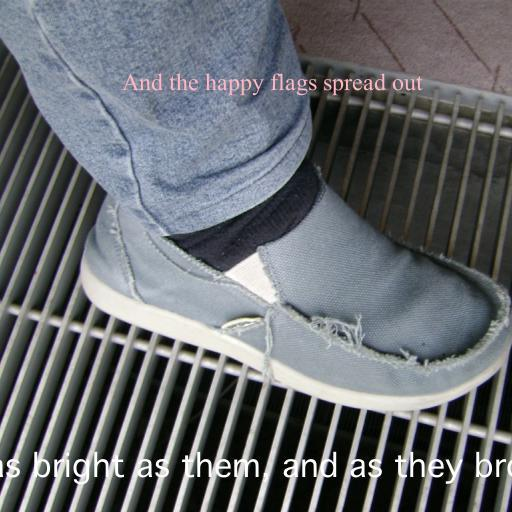Geneva: (0, 451, 512, 485)
Times New Roman: (121, 73, 423, 96)
